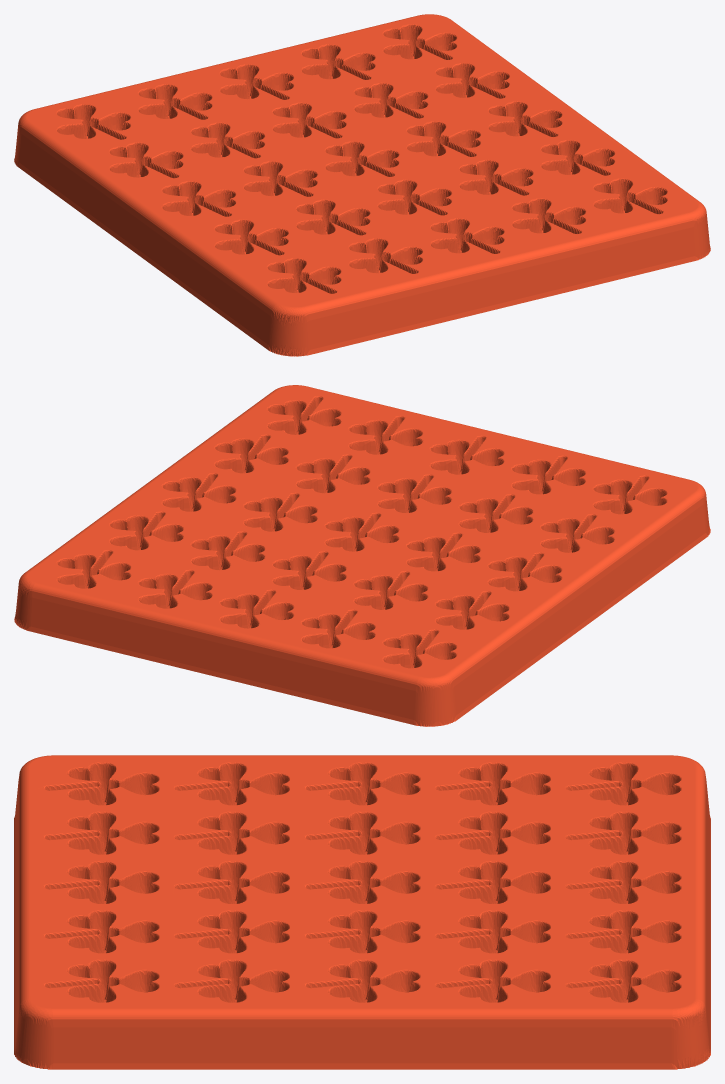
Rendered from mold.glb.
3 renders of one model, top to bottom at view 1: azimuth 30°, elevation 25°; view 2: azimuth 150°, elevation 25°; view 3: azimuth 270°, elevation 25°, orthographic. The views are drawn at different scales.
Visible parts, largest first — view 1: geometry_0; view 2: geometry_0; view 3: geometry_0.
Part boxes in pixels (left/top/right/bottom): geometry_0: left=14, top=14, right=710, bottom=356; geometry_0: left=14, top=385, right=710, bottom=726; geometry_0: left=14, top=755, right=710, bottom=1069.
Size of the model in its own units: 0.1428 by 0.0136 by 0.1584.
